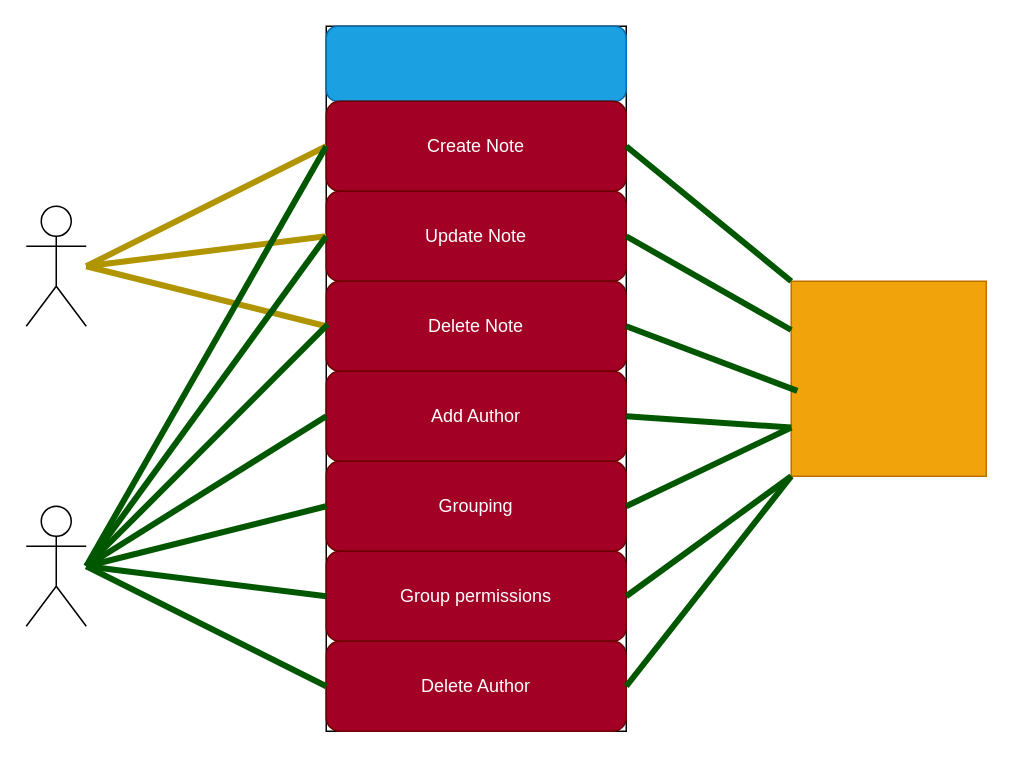
This 1013x758 diagram has some shape labels left out. Each missing label, with the box of its shape:
Admin: (25, 505, 86, 626)
Sticky notes App: (325, 25, 626, 101)
Storage (database): (790, 280, 986, 476)
User: (25, 205, 86, 326)
